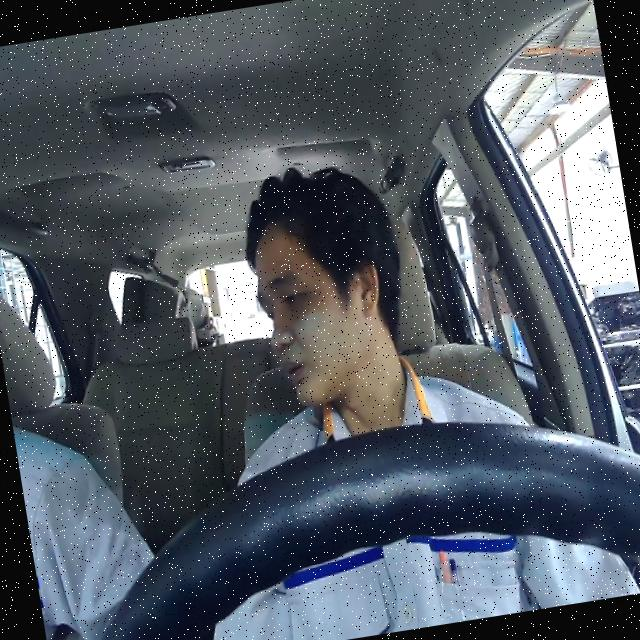seeing_left: (244, 205, 401, 414)
